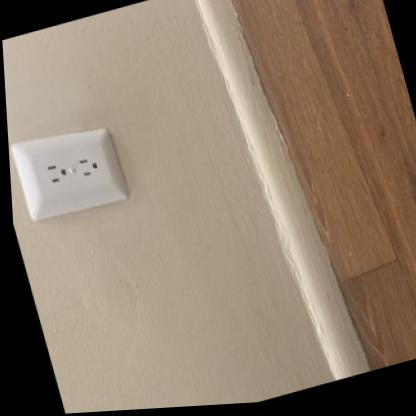OUTLET: (7, 115, 133, 228)
